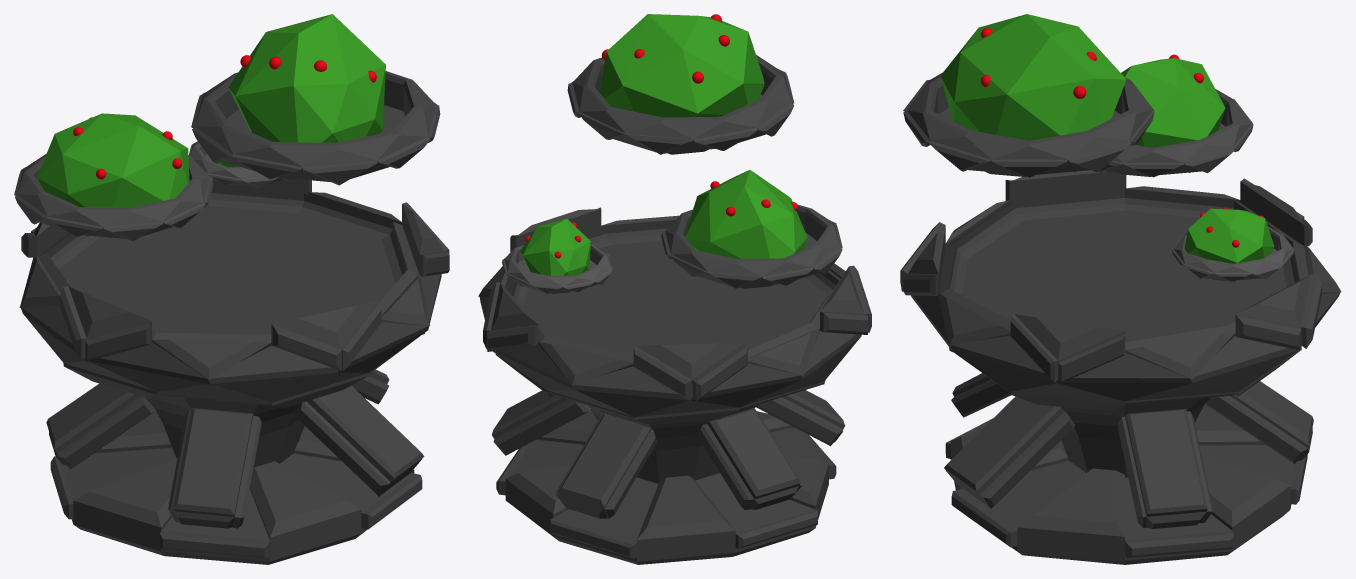
File: AidenSteynRequestedAssets.fbx
3 renders of one model, left to right at view 1: azimuth 30°, elevation 25°; view 2: azimuth 150°, elevation 25°; view 3: azimuth 270°, elevation 25°, orthographic. The views are drawn at different scales.
Parts seen in each view (by area): view 1: Icosphere, Bush02.001, Icosphere.003, Bush02.002, Icosphere.002, Icosphere.001; view 2: Icosphere, Bush02.001, Icosphere.003, Bush02.002, Icosphere.002, Bush02.003, Icosphere.001; view 3: Icosphere, Bush02.001, Icosphere.003, Bush02.002, Icosphere.002, Bush02.003, Icosphere.001.
Boxes of the visible parts, x1,y1,x2,y2 form: Icosphere: (19, 178, 449, 564); Bush02.001: (228, 14, 385, 142); Icosphere.003: (191, 71, 440, 185); Bush02.002: (36, 113, 189, 207); Icosphere.002: (14, 153, 213, 241); Icosphere.001: (188, 141, 290, 188); Icosphere: (478, 207, 871, 564); Bush02.001: (599, 14, 764, 117); Icosphere.003: (567, 55, 794, 154); Bush02.002: (684, 170, 807, 258); Icosphere.002: (661, 204, 842, 288); Bush02.003: (520, 218, 590, 275); Icosphere.001: (502, 244, 612, 293); Icosphere: (900, 170, 1341, 564); Bush02.001: (940, 14, 1126, 140); Icosphere.003: (903, 72, 1154, 177); Bush02.002: (1121, 58, 1225, 147); Icosphere.002: (1099, 89, 1253, 177); Bush02.003: (1184, 208, 1274, 263); Icosphere.001: (1172, 226, 1293, 281).
Bounding box in the file's own units: 342 × 428 × 349.
